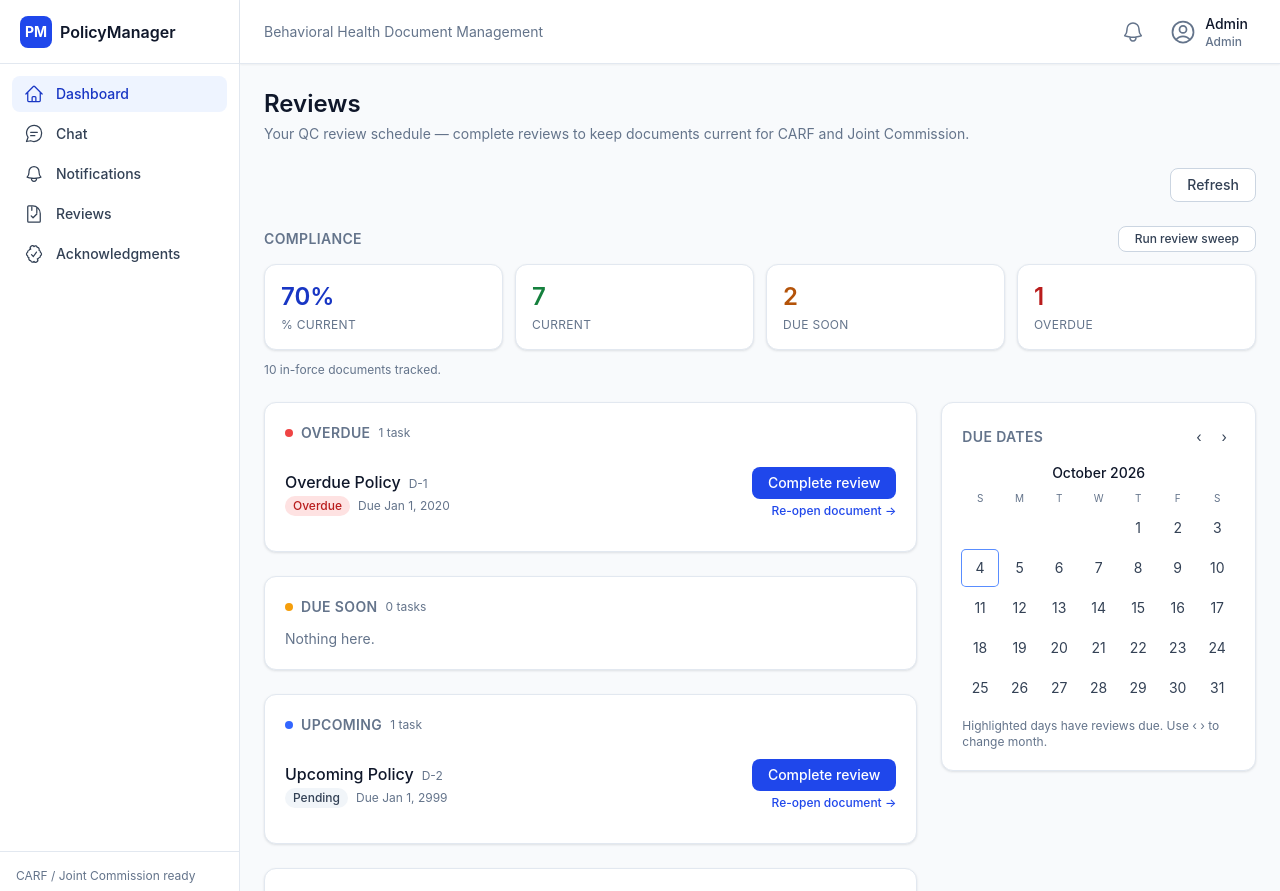
Test: ReviewsPage › shows compliance cards + run-sweep only for review.manage
expect the text "70%" is shown: met, box [281,282,334,311]
expect the heading "Compliance" is shown: met, box [264,229,362,249]
Note: Run sweep triggers the API and reports the result.
Click the button "Run review sweep": (1187, 239) [1118,226,1256,252]
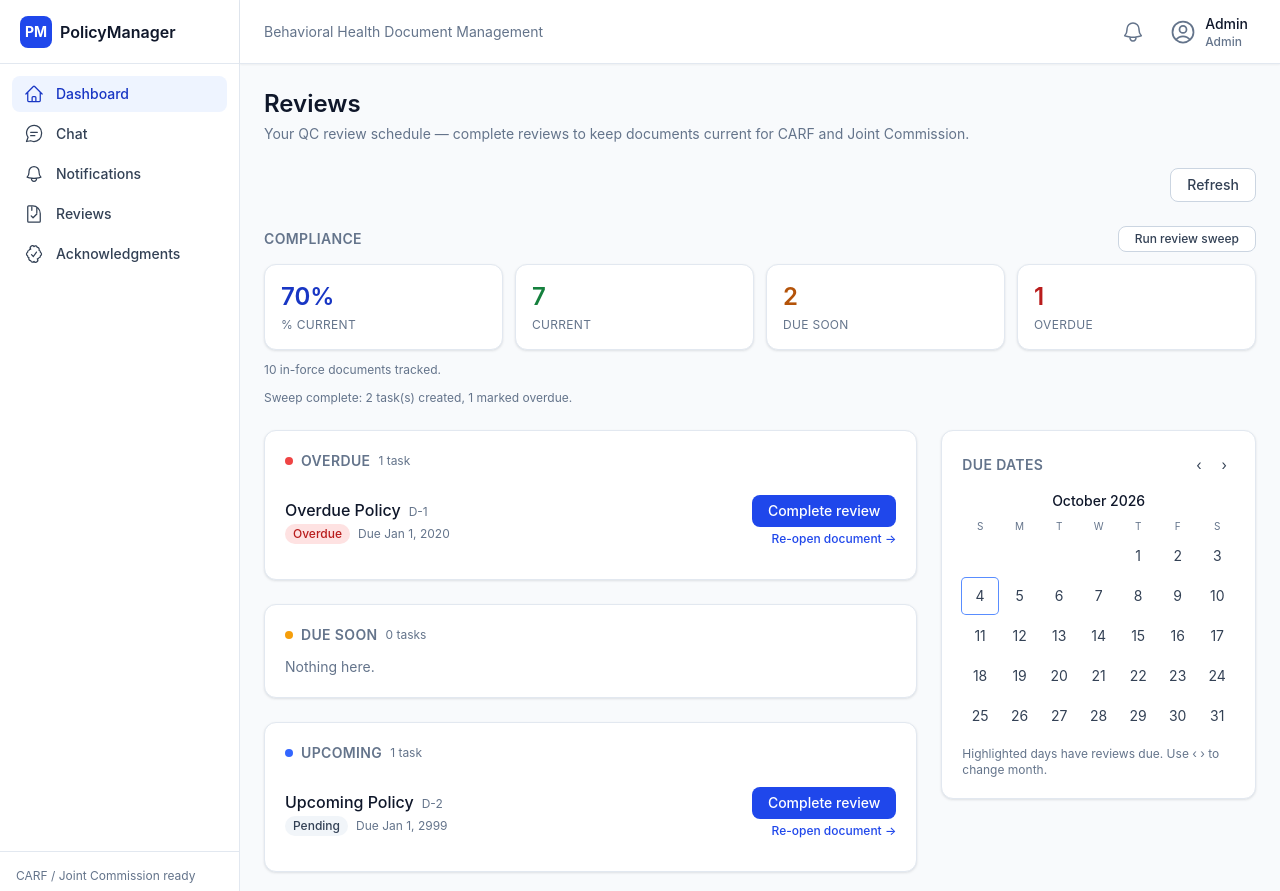
expect the text "Sweep complete: 2 task(s) created, 1 marked overdue." is shown: met, box [264,390,572,405]
